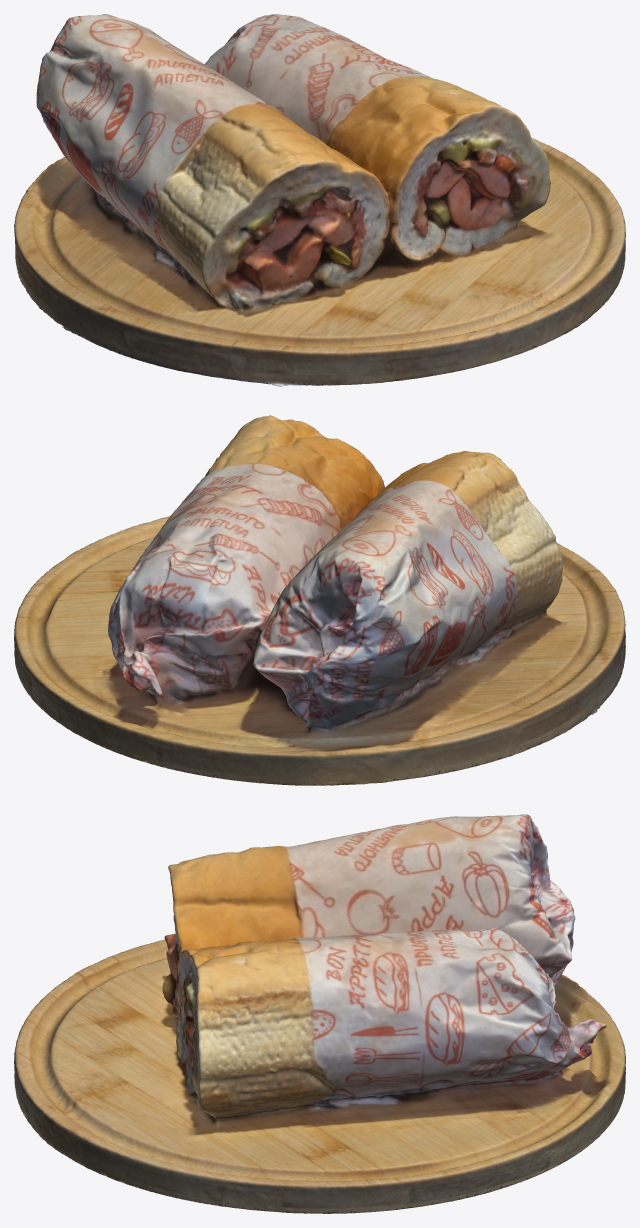
File: Hot.Dog.glb
3 renders of one model, top to bottom at view 1: azimuth 30°, elevation 25°; view 2: azimuth 150°, elevation 25°; view 3: azimuth 270°, elevation 25°, orthographic.
Visible parts, largest first — view 1: 3DModel; view 2: 3DModel; view 3: 3DModel.
Part boxes in pixels (left/top/right/bottom): 3DModel: left=14, top=14, right=625, bottom=386; 3DModel: left=14, top=415, right=625, bottom=785; 3DModel: left=14, top=814, right=625, bottom=1213.
Bounding box in the file's own units: 0.3847 × 0.1406 × 0.3844.
Materials: 1 (1 with a texture image).
